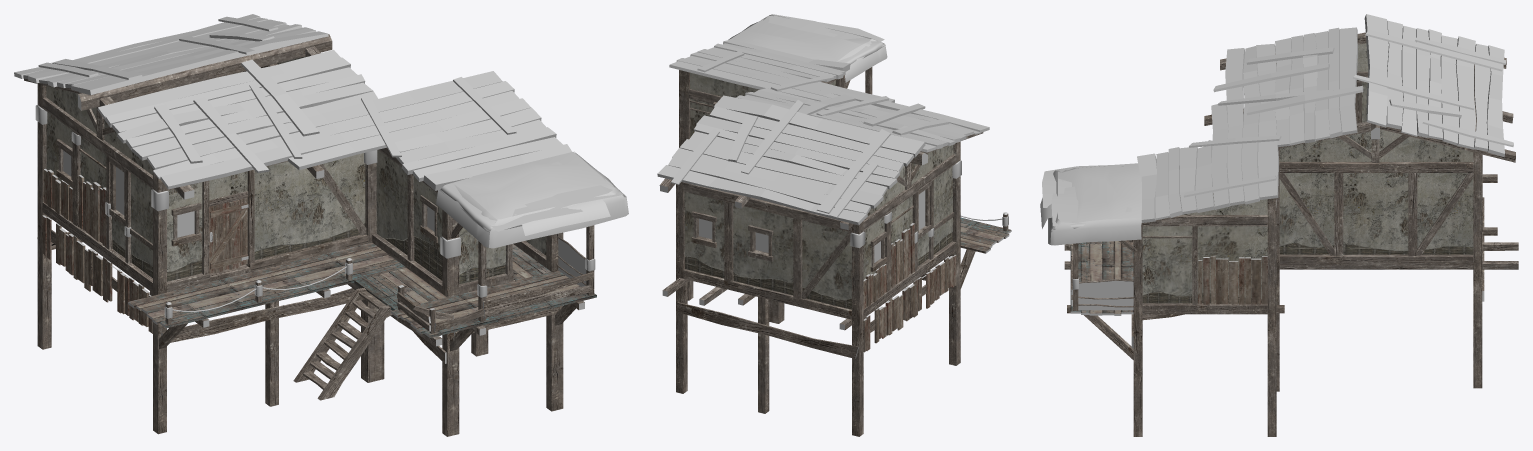
File: House1.fbx
3 renders of one model, left to right at view 1: azimuth 30°, elevation 25°; view 2: azimuth 150°, elevation 25°; view 3: azimuth 270°, elevation 25°, orthographic. The views are drawn at different scales.
Visible parts, largest first — view 1: Base, Stairs, Doors; view 2: Base; view 3: Base.
Boxes of the visible parts, left/top/right/bottom form: Base: left=14, top=14, right=628, bottom=436; Stairs: left=293, top=288, right=392, bottom=400; Doors: left=209, top=197, right=248, bottom=273; Base: left=657, top=14, right=1011, bottom=436; Base: left=1040, top=14, right=1518, bottom=436.
Bounding box in the file's own units: 13.12 × 10.3 × 15.98.
